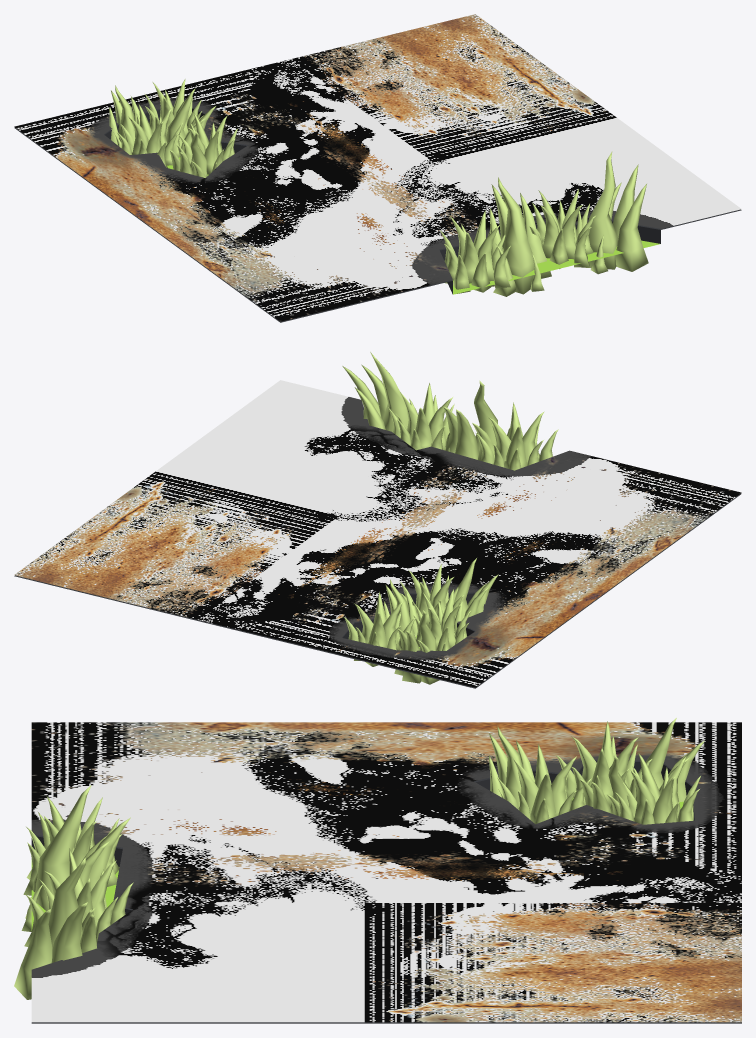
File: Crack3.fbx
3 renders of one model, top to bottom at view 1: azimuth 30°, elevation 25°; view 2: azimuth 150°, elevation 25°; view 3: azimuth 270°, elevation 25°, orthographic. The views are drawn at different scales.
Parts seen in each view (by area): view 1: Crack3; view 2: Crack3; view 3: Crack3.
Part boxes in pixels (bbox=[...]): Crack3: bbox=[14, 14, 741, 322]; Crack3: bbox=[14, 352, 741, 688]; Crack3: bbox=[14, 718, 741, 1023].
Bounding box in the file's own units: 200 × 41.43 × 205.
